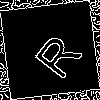R: (25, 25, 84, 82)
